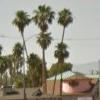Palm tree: (11, 4, 76, 75)
